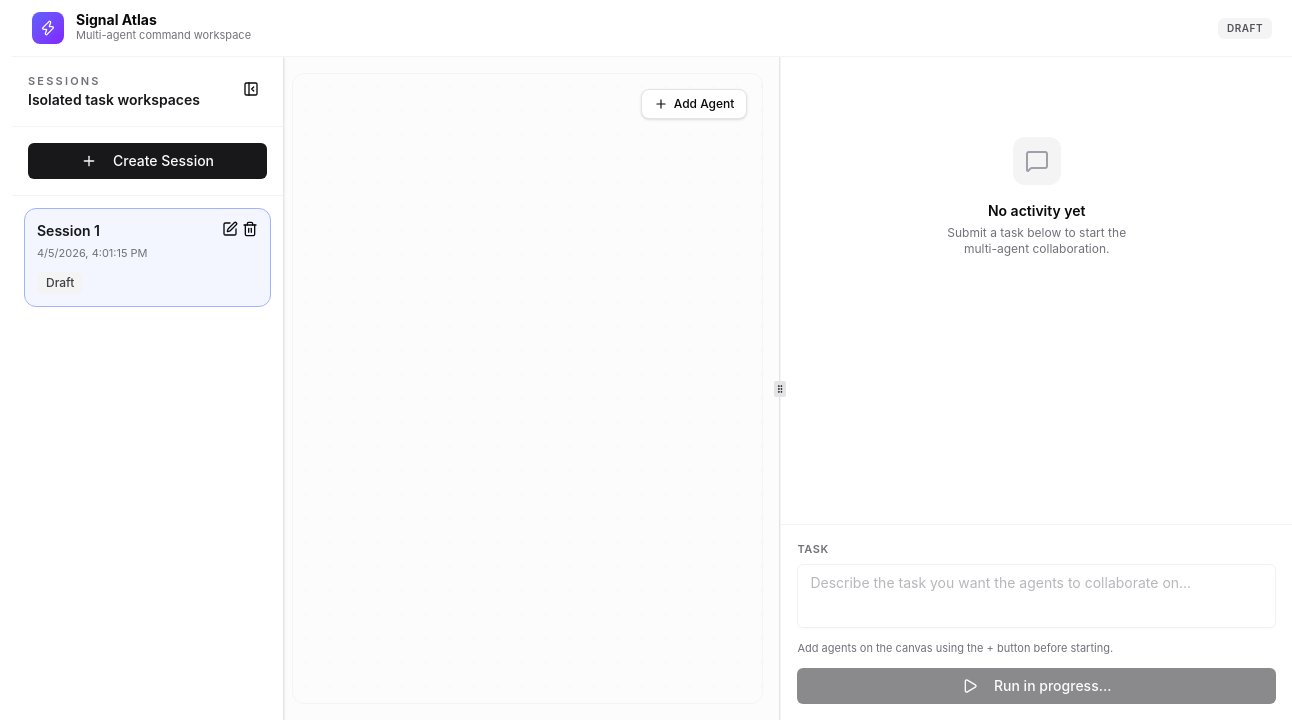
Test: App › hides and restores the sessions sidebar from the header toggle
Type "Keep the canvas visible" into the text box labelled "Task" at (1037, 596), box [797, 564, 1276, 628]
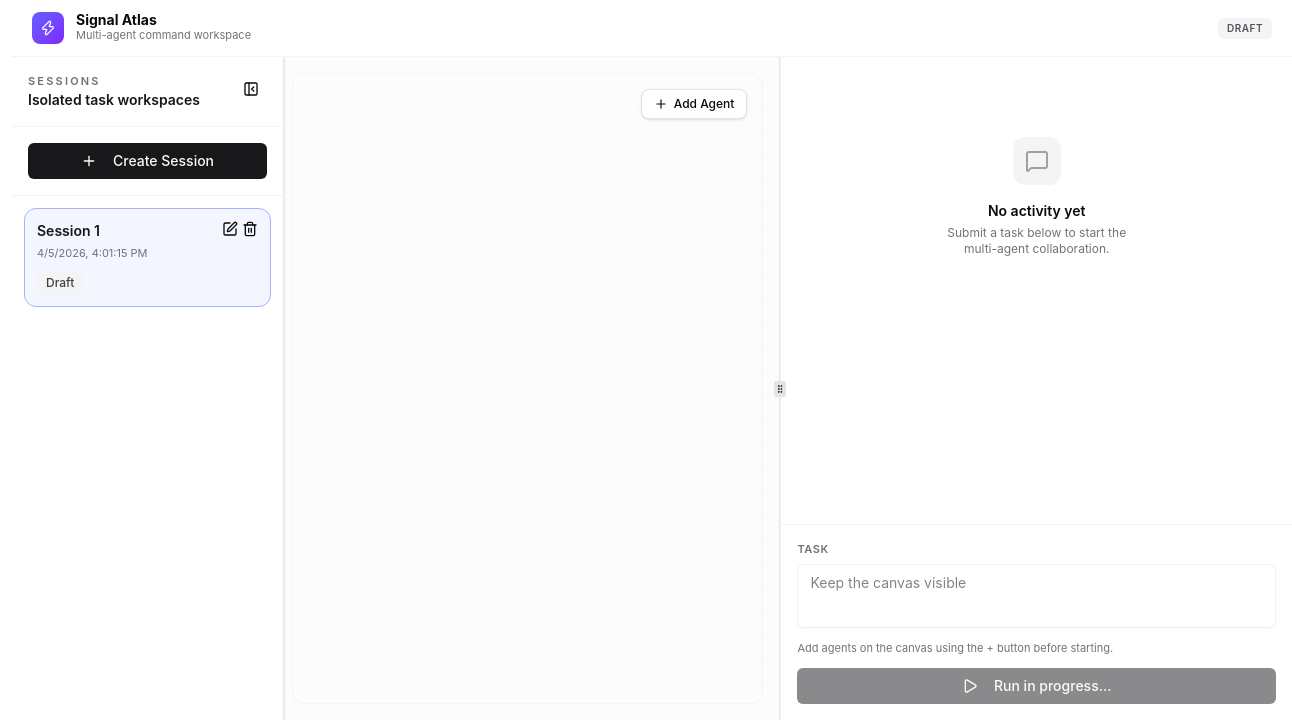
Expected: the button "Create Session" is shown, [28, 142, 267, 178]
Click the button named "collapse sessions sidebar" at (251, 89), box [235, 73, 267, 105]
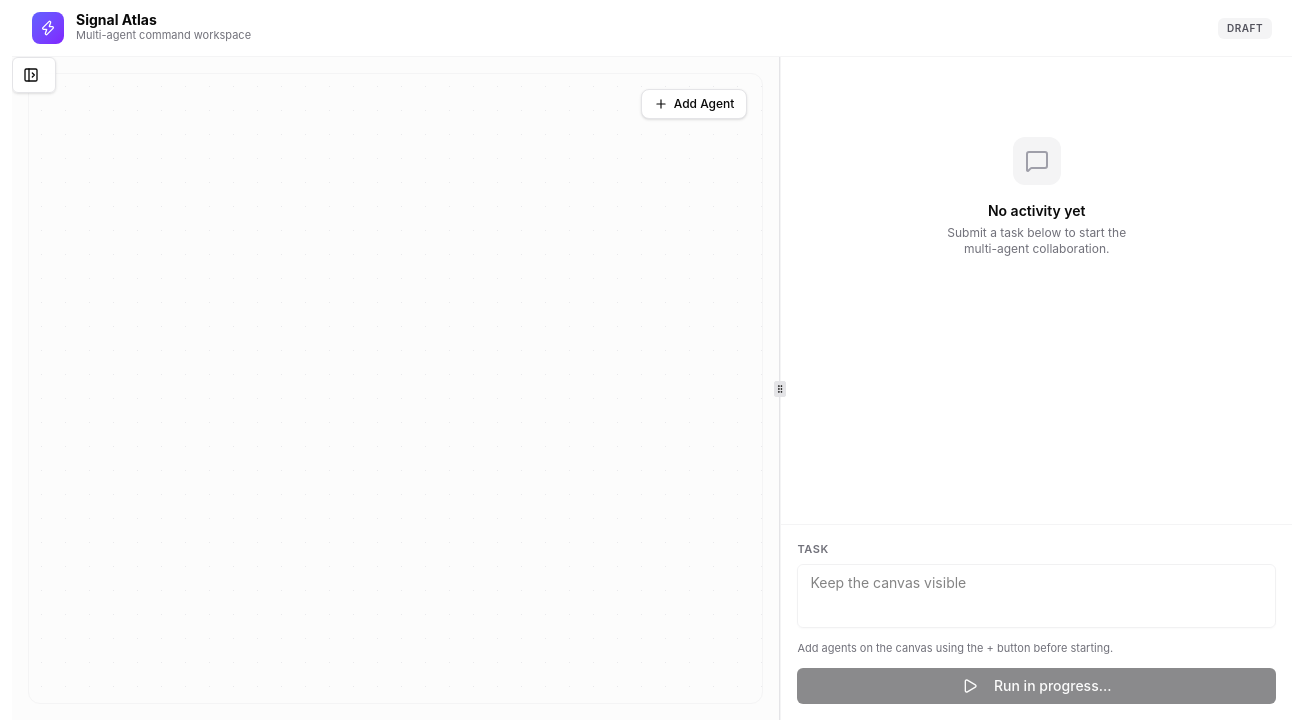
Now the button "Create Session" is gone
Click the button named "expand sessions sidebar" at (34, 75), box [12, 57, 56, 93]
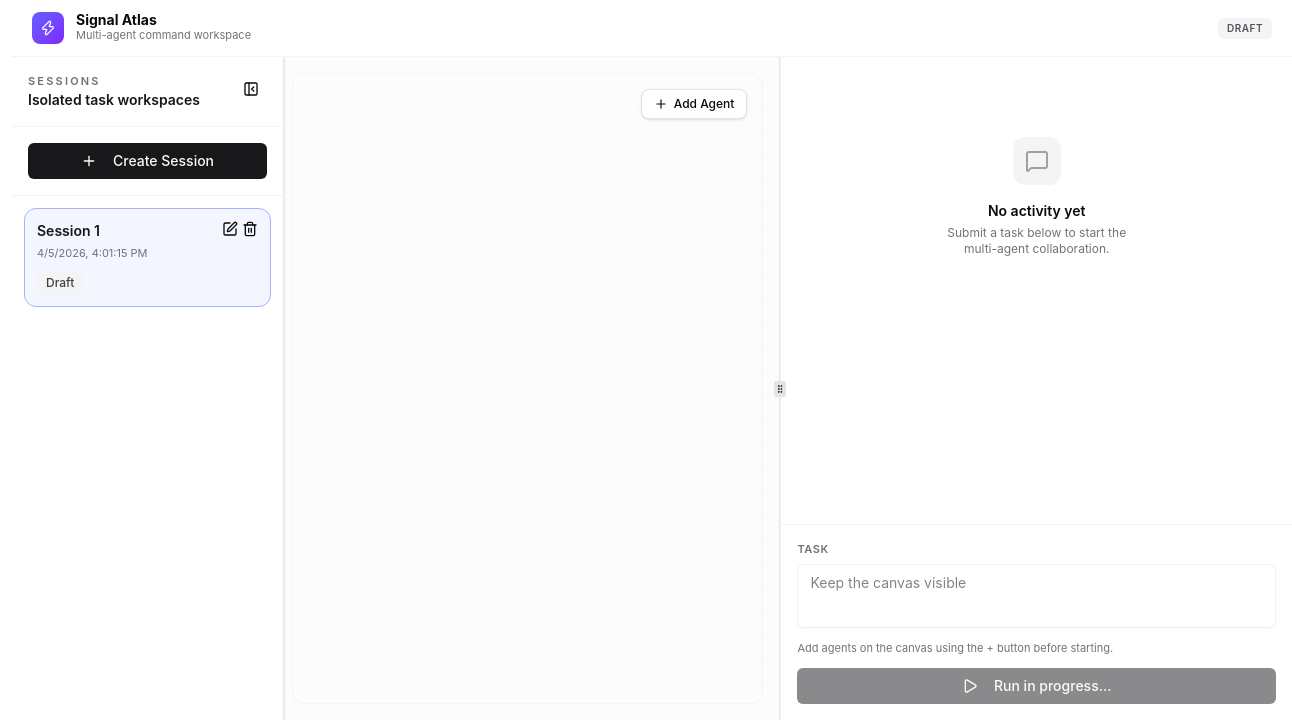
Now the button "Create Session" is shown, box [28, 142, 267, 178]
